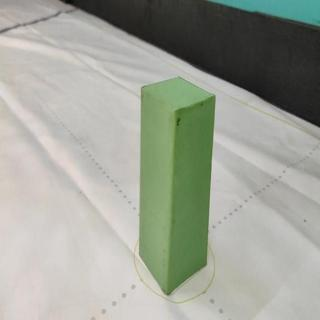greenbox: (139, 75, 216, 298)
